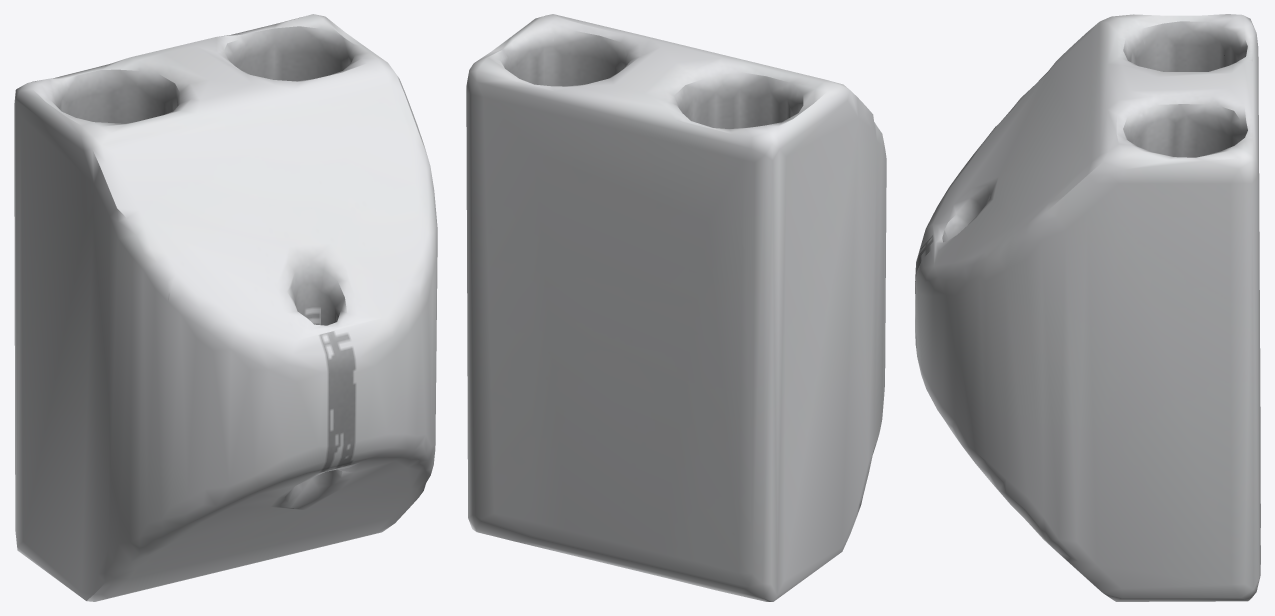
Rendered from right_finger4_middle.glb.
The picture shows the model from 3 angles, left to right: view 1: azimuth 30°, elevation 25°; view 2: azimuth 150°, elevation 25°; view 3: azimuth 270°, elevation 25°; orthographic projection. The views are drawn at different scales.
Visible parts, largest first — view 1: right_finger4_middle; view 2: right_finger4_middle; view 3: right_finger4_middle.
Part boxes in pixels (x1=…): right_finger4_middle: x1=14, y1=14, x2=437, y2=601; right_finger4_middle: x1=466, y1=14, x2=886, y2=601; right_finger4_middle: x1=915, y1=14, x2=1260, y2=601.
Bounding box in the file's own units: 0.0105 × 0.0151 × 0.0104.
1 material, 1 textured.
